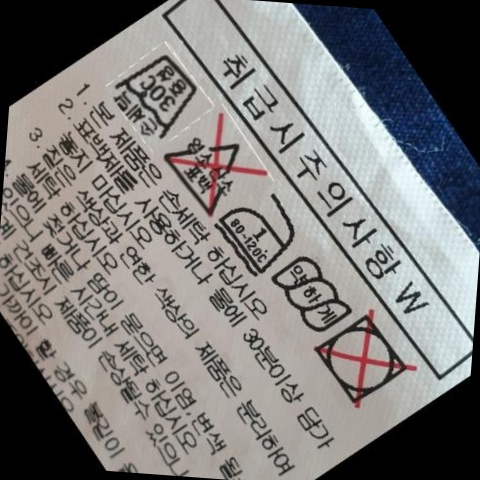DN_bleach: (164, 120, 254, 212)
DN_tumble_dry: (315, 315, 416, 410)
hand_wash: (113, 56, 201, 142)
iron_low: (220, 194, 303, 273)
wring: (273, 259, 359, 330)
